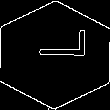L_W: (26, 39, 84, 71)
